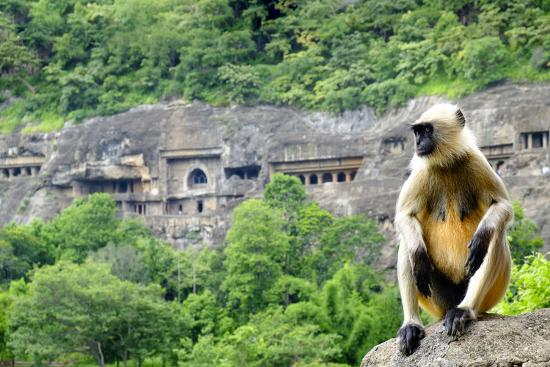monkey: (384, 106, 517, 356)
